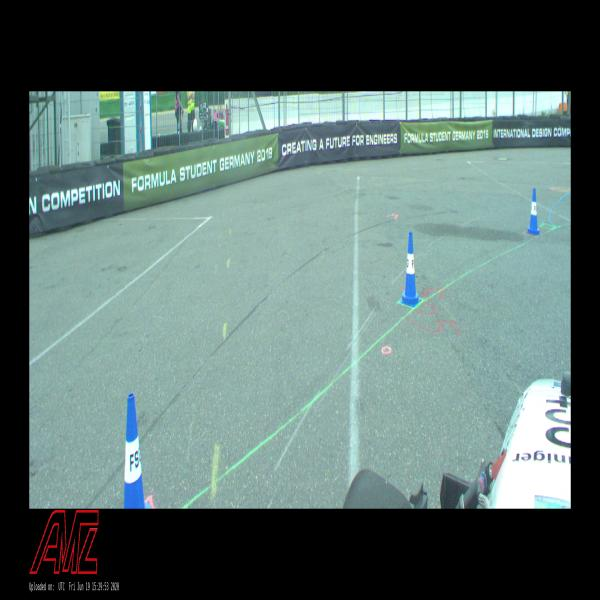blue_cone: (123, 393, 151, 508), (400, 231, 421, 308), (526, 189, 541, 234)
